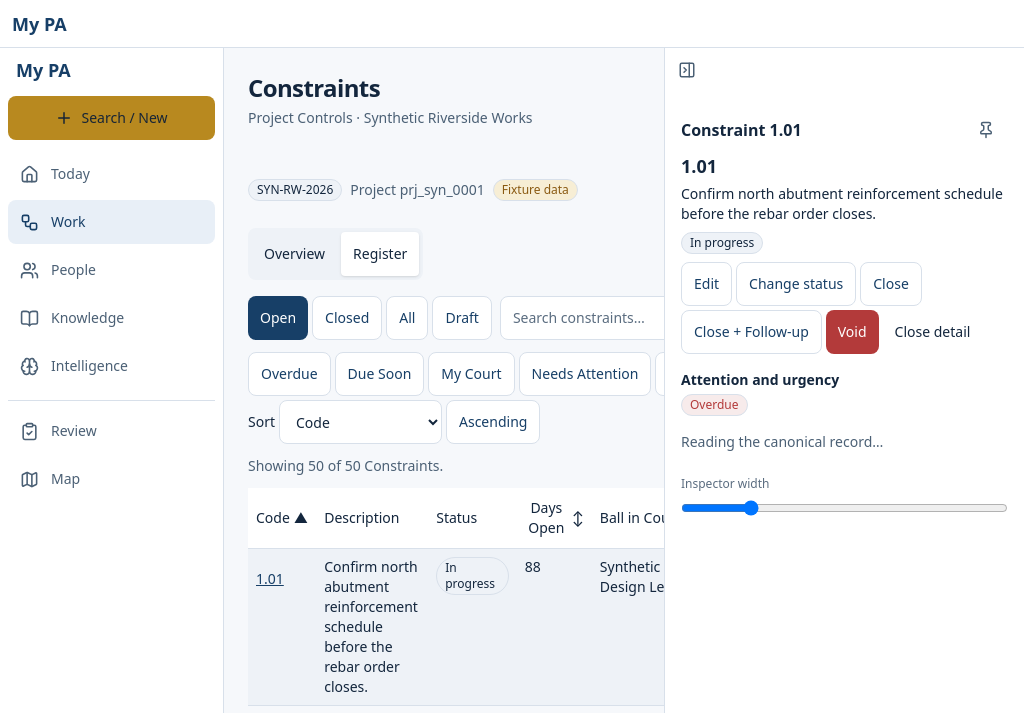
Test: the fixture-only lifecycle surfaces › names the missing endpoint, version and receipt on the lifecycle surface once diagnostics are on
Click the button with test id "inspector-close" at [891, 284], box [860, 262, 922, 306]
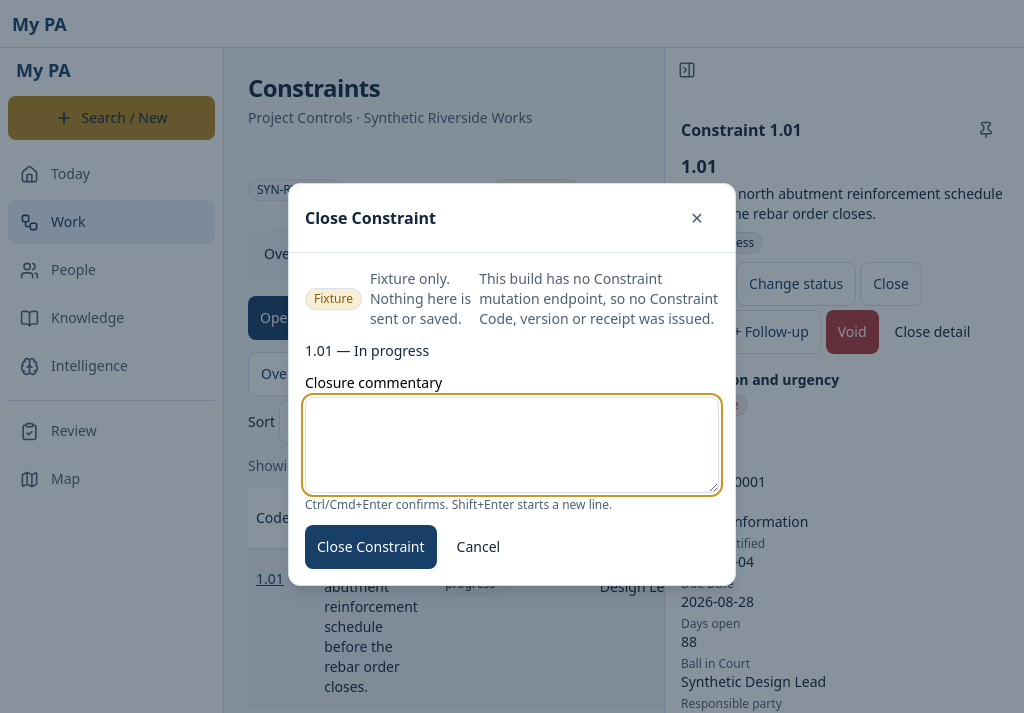
Now the element with test id "synthetic-notice-lifecycle" shows "no Constraint mutation endpoint", box [479, 268, 718, 328]
Click the button with test id "lifecycle-confirm" at [371, 546], box [305, 524, 437, 568]
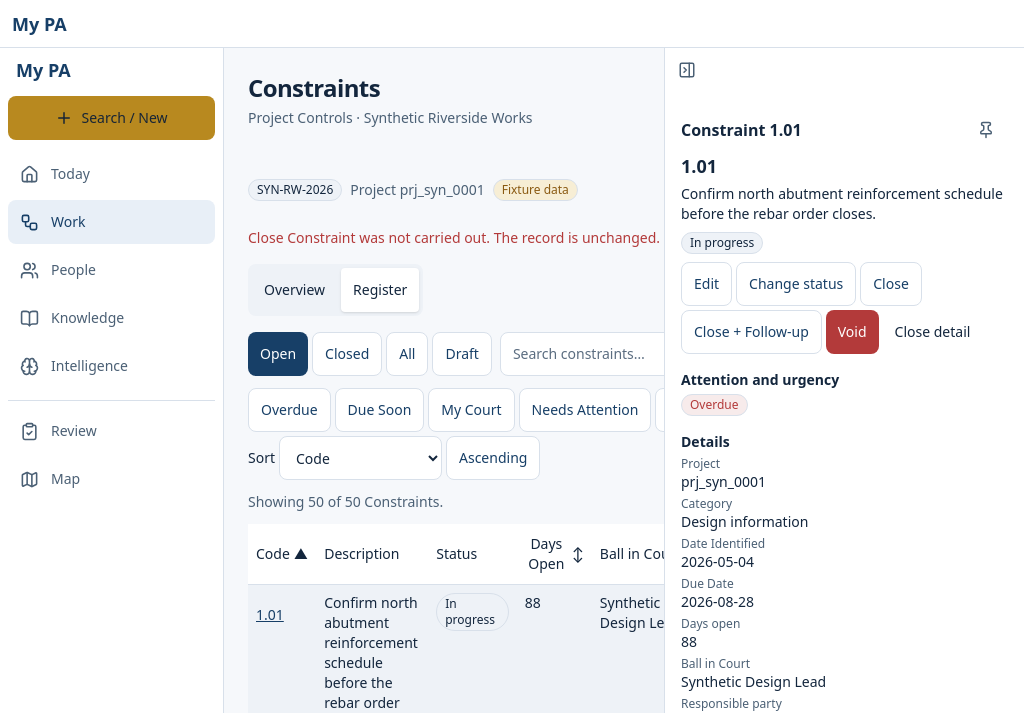
Now the message with test id "workspace-live" shows "The record is unchanged", box [248, 228, 660, 247]
